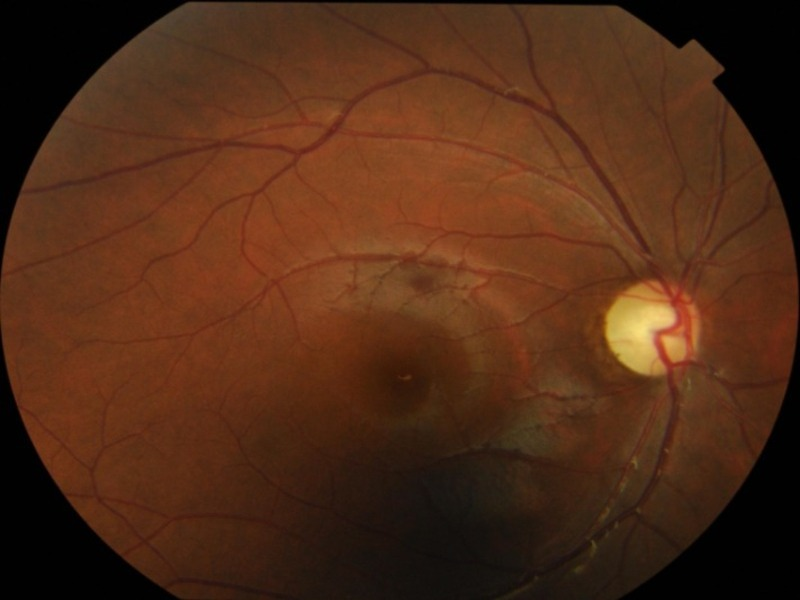Optic Cup: (631, 302, 676, 348)
Optic Disc: (607, 278, 704, 380)
